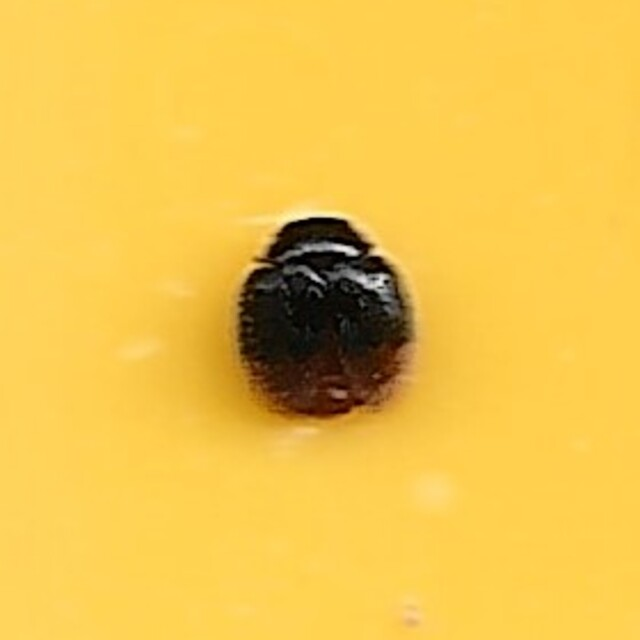Coleoptera: (229, 215, 411, 425)
